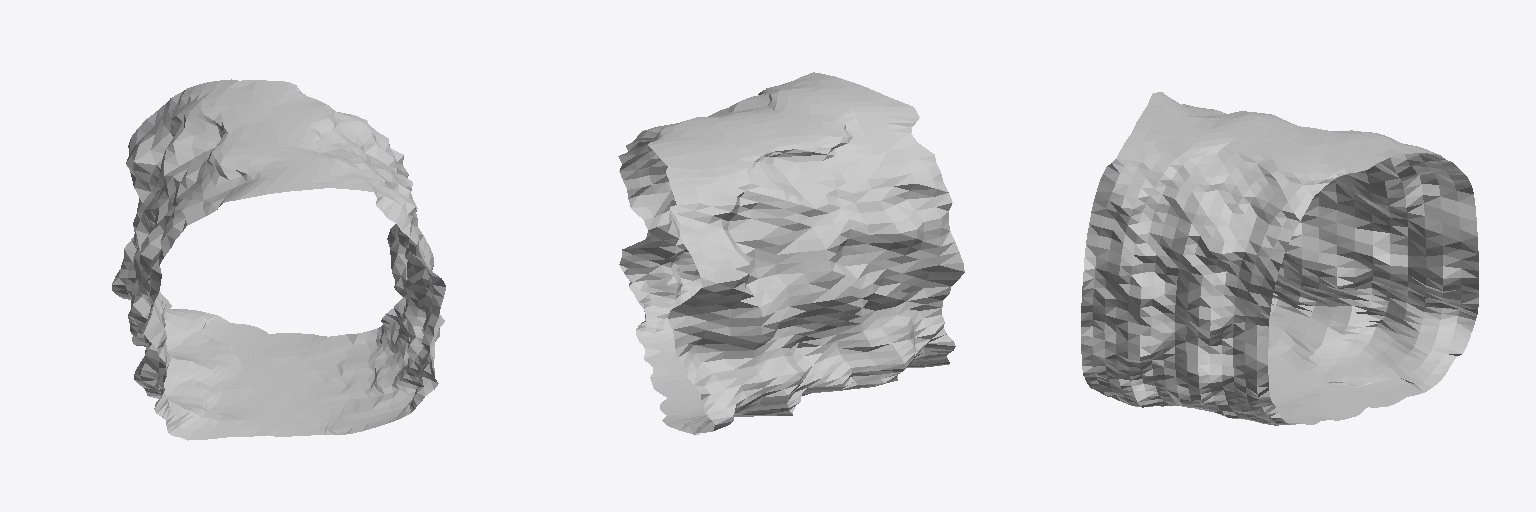
Rendered from cave3.obj.
3 views of the same model, side by side, from view 1: azimuth 30°, elevation 25°; view 2: azimuth 150°, elevation 25°; view 3: azimuth 270°, elevation 25° (orthographic).
Visible parts, largest first — view 1: Cube.003; view 2: Cube.003; view 3: Cube.003.
Boxes of the visible parts, <box> form: Cube.003: <box>112,79,445,440</box>; Cube.003: <box>618,72,964,434</box>; Cube.003: <box>1081,92,1478,425</box>.
Bounding box in the file's own units: 2.5 × 1.92 × 2.79.